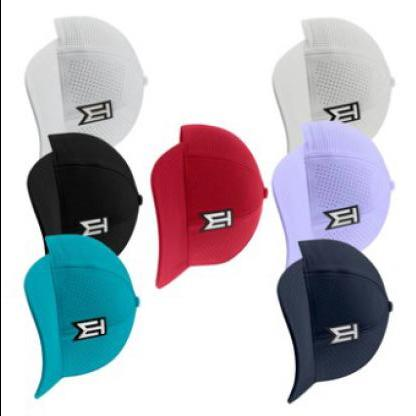cap: (147, 115, 273, 298)
